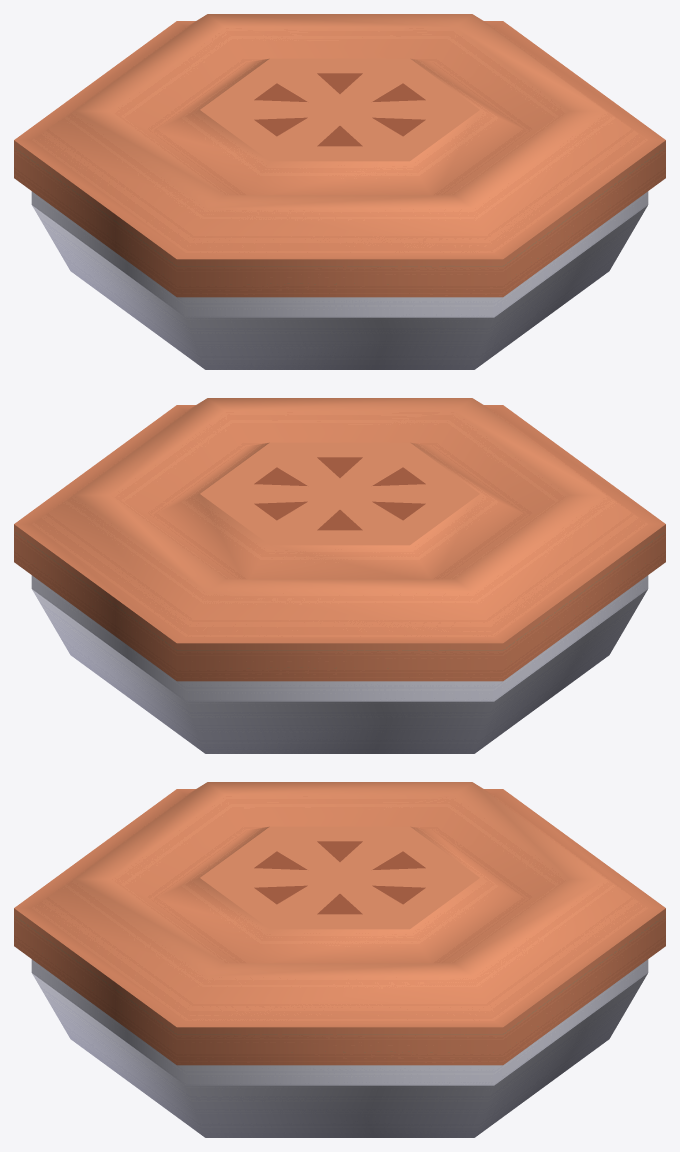
The model's file is mincemeat-pie.glb.
3 views of the same model, one above another, from view 1: azimuth 30°, elevation 25°; view 2: azimuth 150°, elevation 25°; view 3: azimuth 270°, elevation 25° (orthographic).
Visible parts, largest first — view 1: mincemeat-pie; view 2: mincemeat-pie; view 3: mincemeat-pie.
Part boxes in pixels (bbox=[...]): mincemeat-pie: bbox=[14, 14, 665, 369]; mincemeat-pie: bbox=[14, 398, 665, 753]; mincemeat-pie: bbox=[14, 782, 665, 1137].
Size of the model in its own units: 0.5309 by 0.1673 by 0.6131.
1 material, 1 textured.
